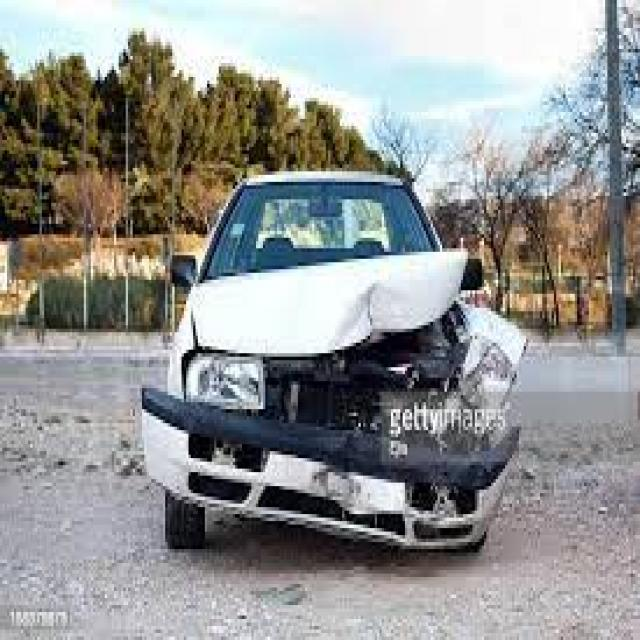moderate: (193, 264, 500, 544)
